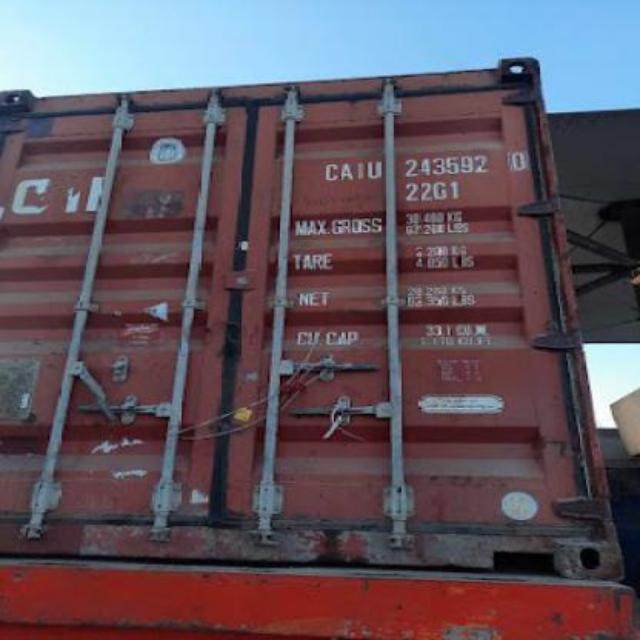0: (510, 152, 526, 172)
2: (402, 159, 418, 177), (474, 154, 486, 174)
3: (432, 157, 446, 175)
4: (420, 156, 432, 178)
5: (446, 154, 459, 176)
9: (461, 156, 474, 174)
A: (341, 163, 354, 181)
C: (320, 164, 340, 180)
I: (356, 158, 364, 180)
U: (366, 161, 382, 179)
